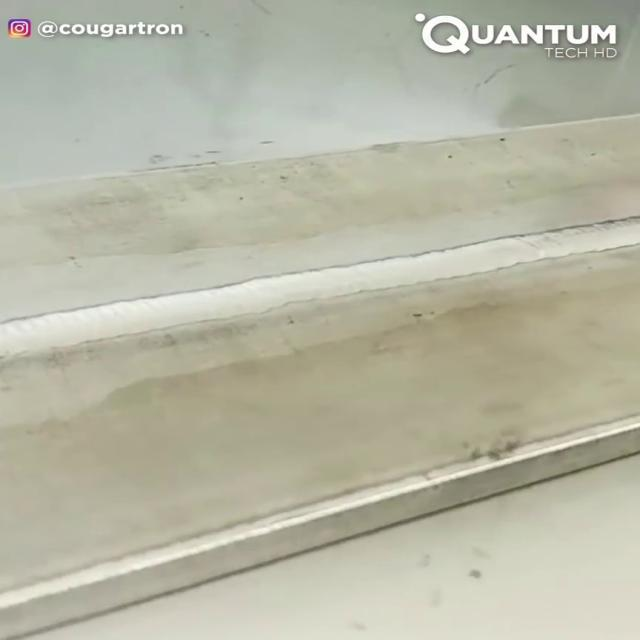Good Welding: (0, 218, 639, 358)
